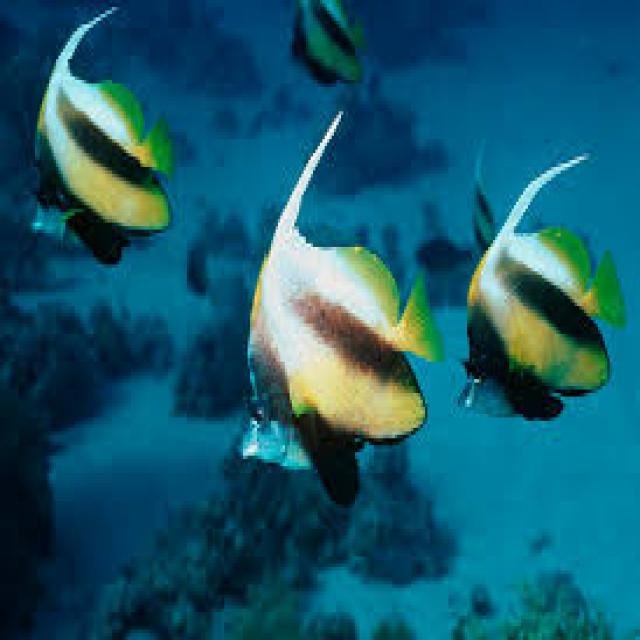Bannerfish: (245, 115, 438, 500), (462, 153, 625, 420), (34, 3, 170, 263)
